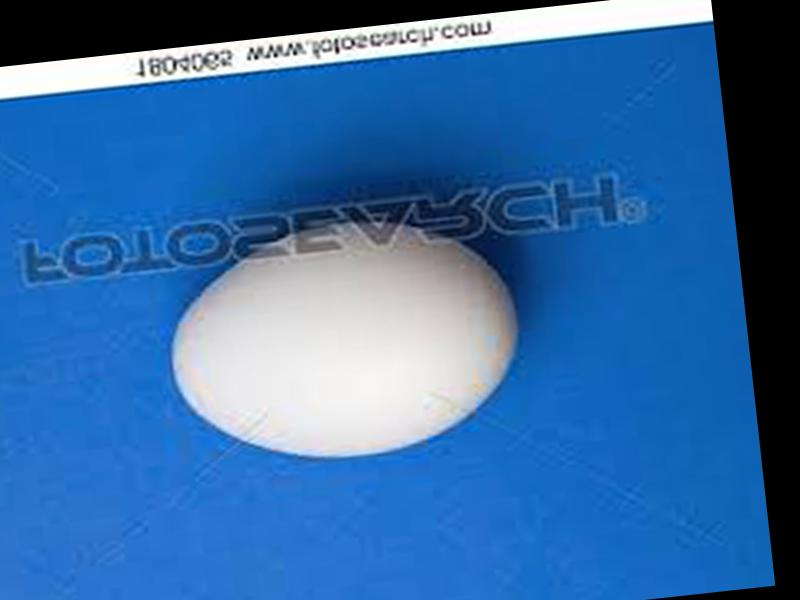Eggs: (159, 198, 529, 473)
